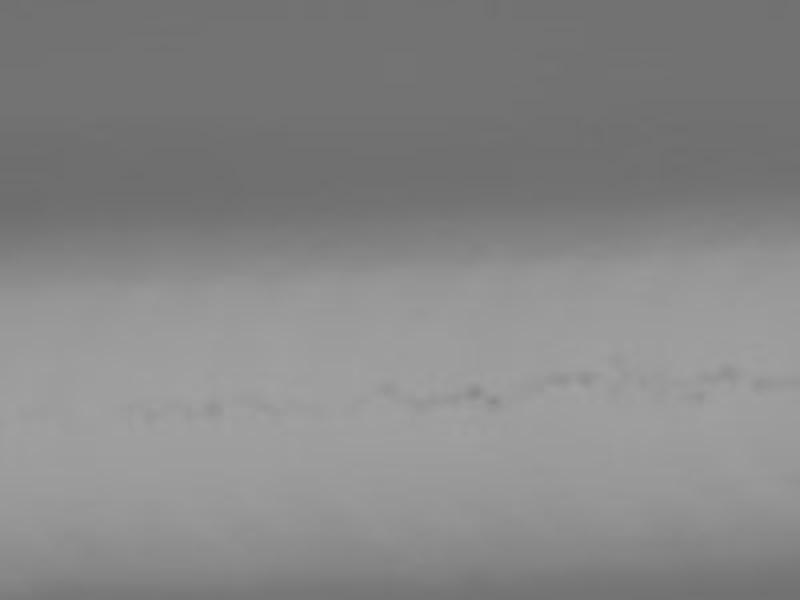defect: (605, 382, 630, 407), (573, 365, 596, 391), (199, 398, 224, 421), (748, 373, 771, 396), (717, 361, 741, 383), (607, 348, 628, 371), (373, 376, 398, 395), (547, 368, 570, 386), (408, 395, 431, 413), (687, 387, 708, 405), (465, 383, 483, 400), (487, 393, 503, 410)
